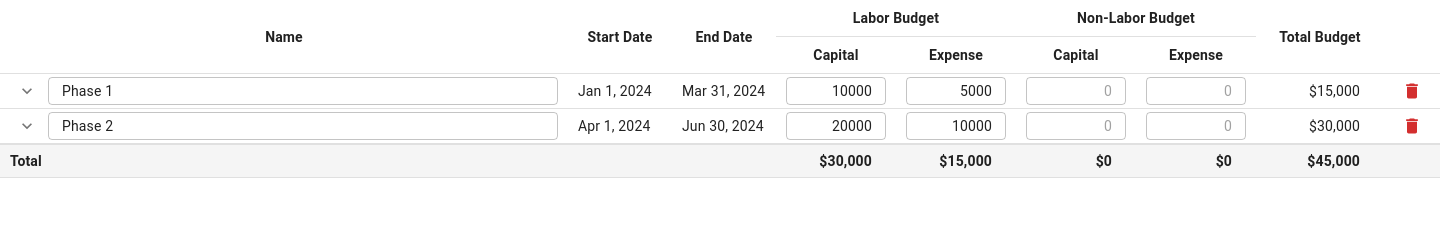
Test: PhaseList Bug Fixes › Fix 1: Font Size Consistency › should render edit mode without visual inconsistencies
The width and height of the screenshot is (1440, 248).
Expected: the 1st field showing "Phase 1" is shown, [48,77,558,105]
Expected: the 2nd field showing "10000" is shown, [786,77,886,105]
Click the button named "expand description" in the row of "Jan 1, 2024" at (27, 91), box [12,76,42,106]
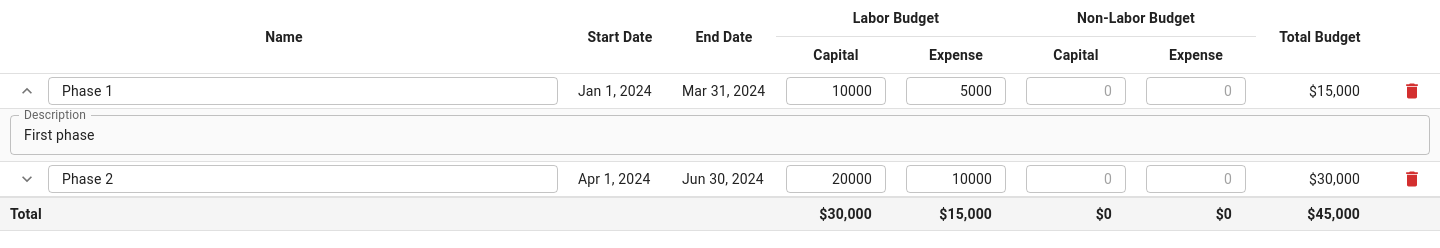
Result: the text box showing "First phase" is shown at [24,124,1416,146]
